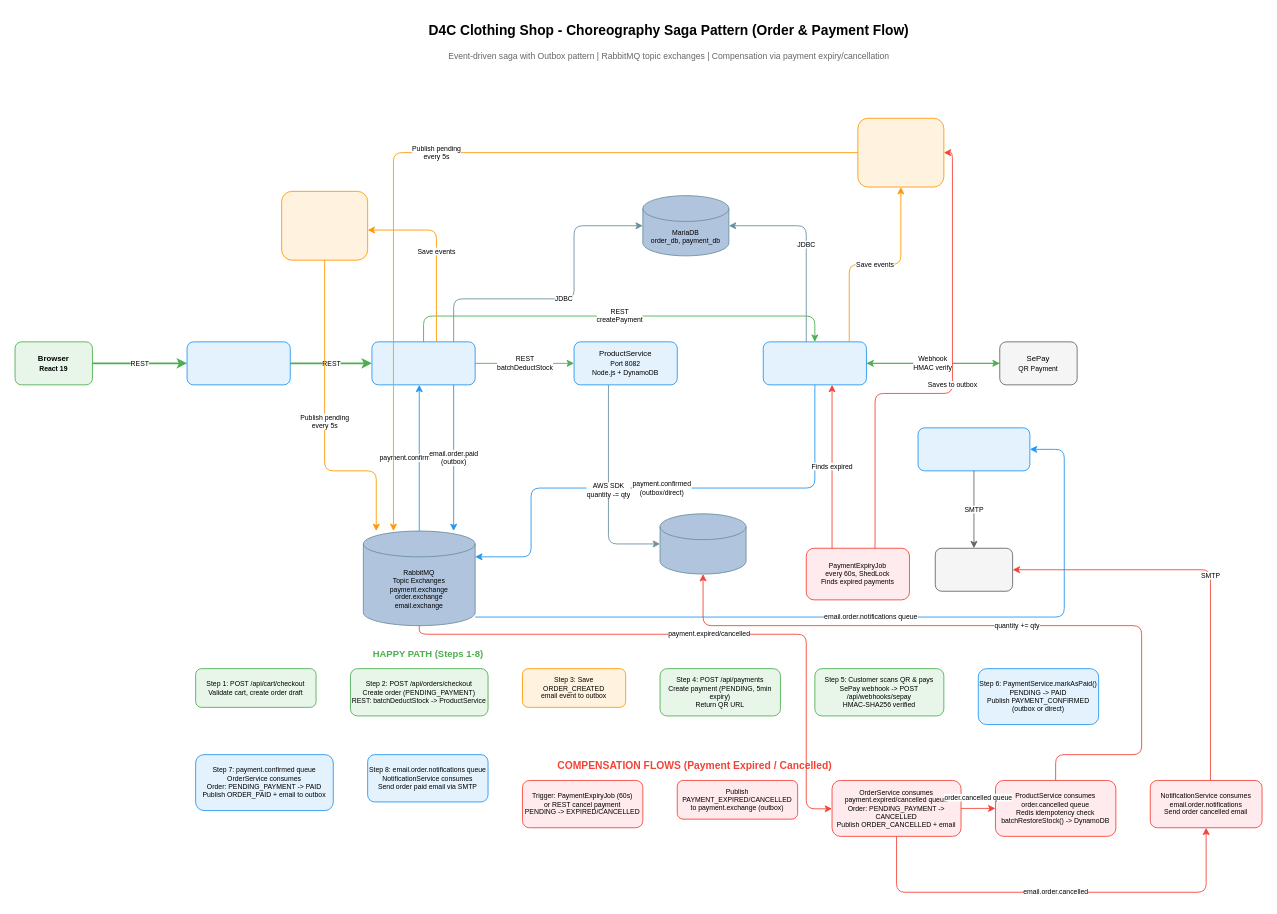
The diagram is 1277 pixels wide and 914 high, and some of its shapes have lost their labels. Here are the shapes that lost their labels. From the top down, the box of each, then its label:
(857, 117, 944, 187): Outbox Table (PaymentService DB) PaymentExpiryJob always uses outbox
(281, 190, 368, 260): Outbox Table (OrderService DB) OutboxPublisherJob every 5s, ShedLock
(186, 341, 290, 385): CartService Port 8084 Spring Boot + Redis
(371, 341, 475, 385): OrderService Port 8085 Spring Boot + Outbox
(762, 341, 866, 385): PaymentService Port 8086 Spring Boot + SePay
(917, 427, 1030, 471): NotificationService Port 8083 Spring Boot + SMTP
(659, 513, 746, 574): DynamoDB Products, Variants
(934, 547, 1013, 591): SMTP Email delivery
